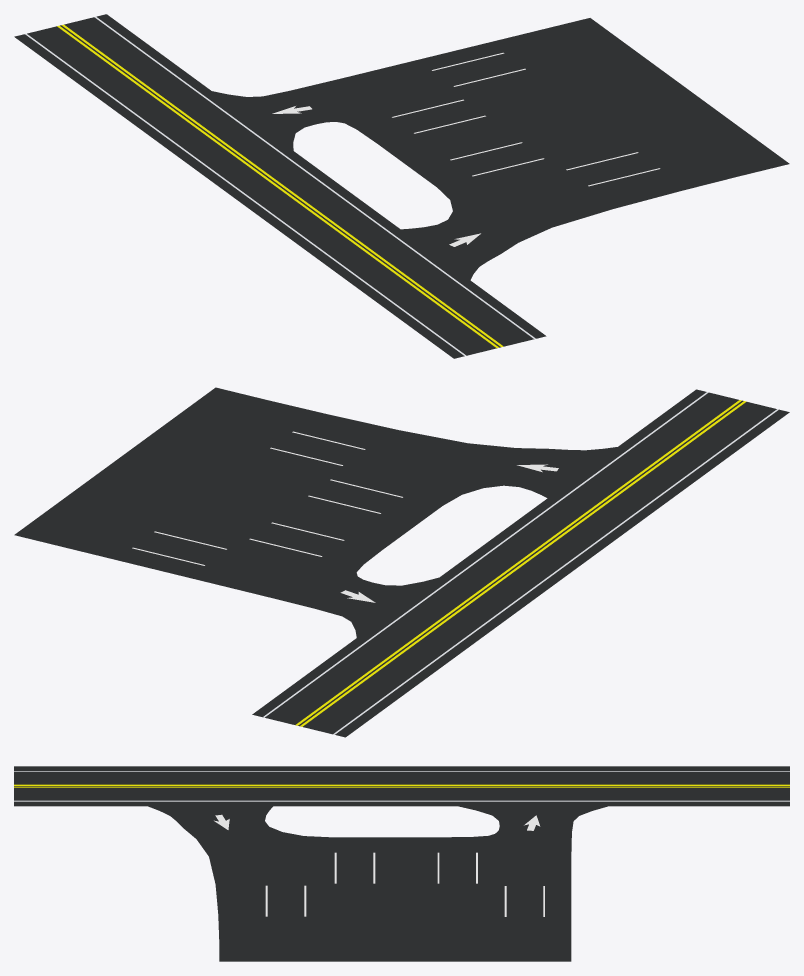
File: BurgerHouseMap.fbx
The picture shows the model from 3 angles, top to bottom: view 1: azimuth 30°, elevation 25°; view 2: azimuth 150°, elevation 25°; view 3: azimuth 270°, elevation 25°; orthographic projection. The views are drawn at different scales.
Parts seen in each view (by area): view 1: SM_Diner_ParkingLot_01.mo, SM_Road_03.mo; view 2: SM_Diner_ParkingLot_01.mo, SM_Road_03.mo; view 3: SM_Diner_ParkingLot_01.mo, SM_Road_03.mo.
Boxes of the visible parts, bbox=[...] form: SM_Diner_ParkingLot_01.mo: bbox=[212, 18, 789, 280]; SM_Road_03.mo: bbox=[14, 14, 546, 358]; SM_Diner_ParkingLot_01.mo: bbox=[14, 387, 616, 637]; SM_Road_03.mo: bbox=[252, 389, 789, 737]; SM_Diner_ParkingLot_01.mo: bbox=[148, 806, 607, 961]; SM_Road_03.mo: bbox=[14, 766, 789, 806].
Bounding box in the file's own units: 3300 × 6.06 × 5560.
